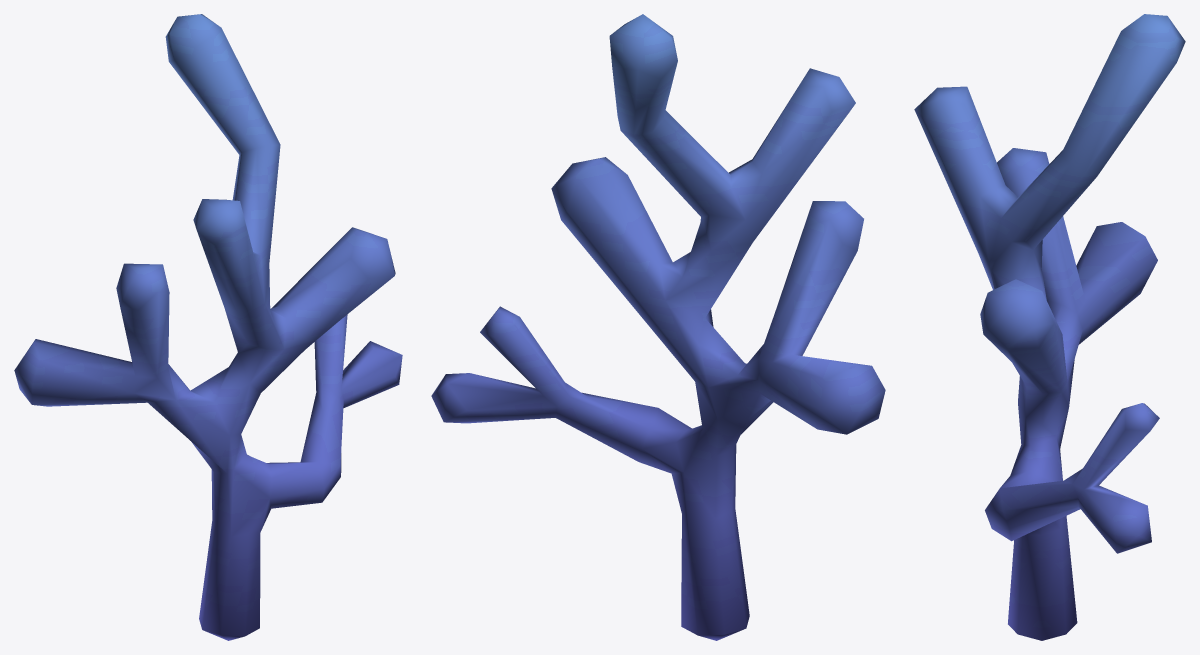
The model's file is D_CoralReef.113.glb.
The picture shows the model from 3 angles, left to right: view 1: azimuth 30°, elevation 25°; view 2: azimuth 150°, elevation 25°; view 3: azimuth 270°, elevation 25°; orthographic projection. The views are drawn at different scales.
Visible parts, largest first — view 1: D_CoralReef.113; view 2: D_CoralReef.113; view 3: D_CoralReef.113.
Boxes of the visible parts, bbox=[...] form: D_CoralReef.113: bbox=[14, 14, 402, 640]; D_CoralReef.113: bbox=[431, 14, 885, 640]; D_CoralReef.113: bbox=[914, 14, 1185, 640].
Size of the model in its own units: 0.4645 by 0.6826 by 0.2637.
1 material, 1 textured.
